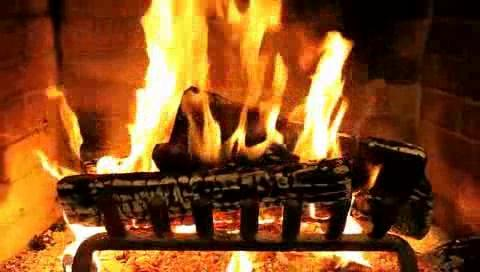fire: (76, 2, 422, 180)
